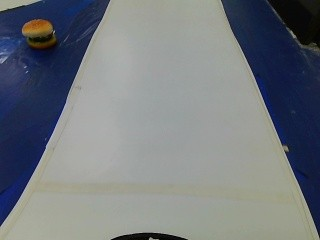burger: (17, 17, 60, 51)
